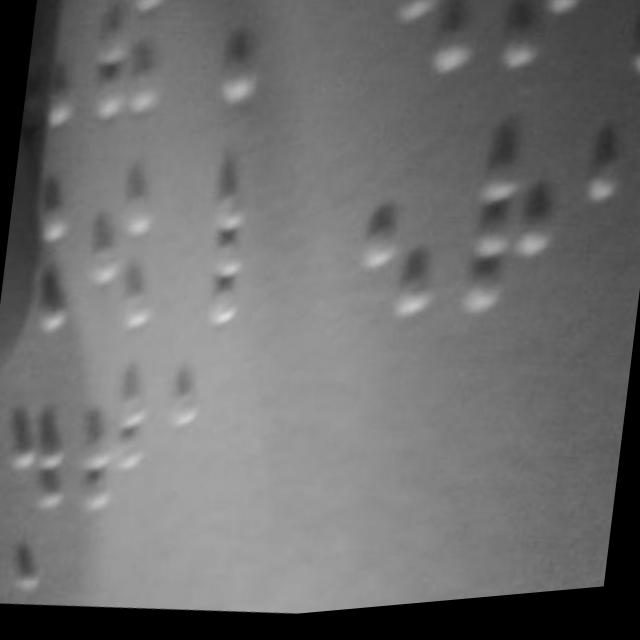braiile: (452, 154, 570, 336), (78, 170, 180, 347), (348, 153, 448, 329), (163, 186, 254, 344), (66, 380, 154, 542), (156, 0, 267, 128), (72, 0, 175, 137), (0, 382, 78, 540)
